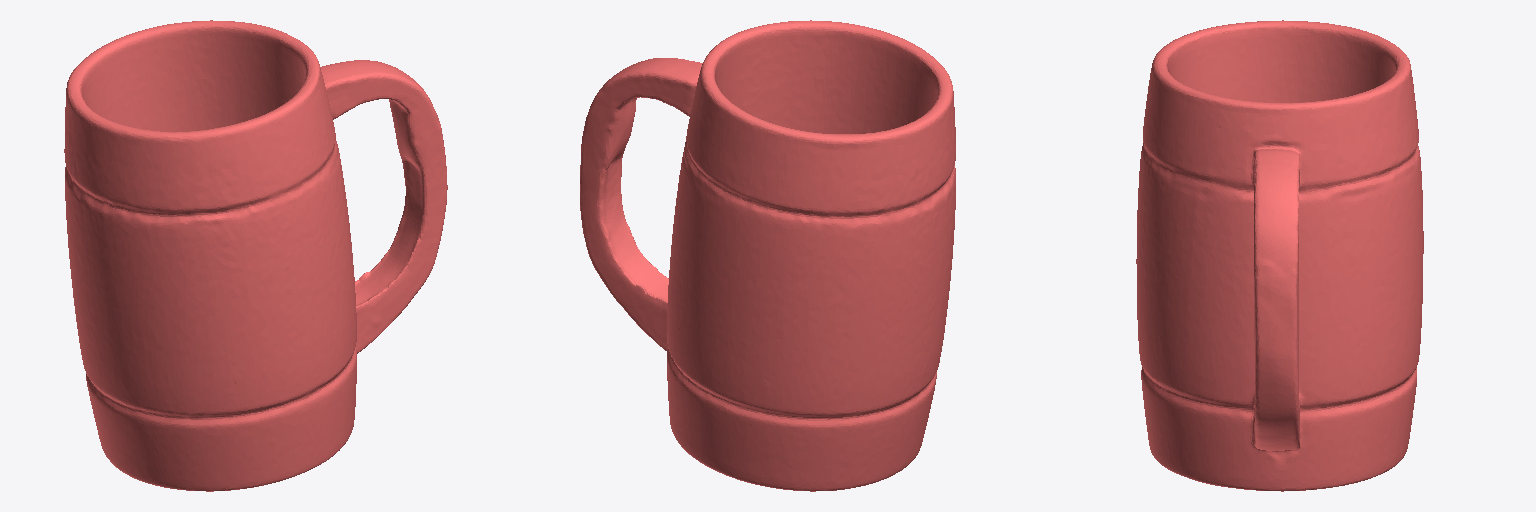
The robot description file, URDF, robot "model.urdf":
<robot name="model.urdf">
    <link name="baseLink">
        <contact>
            <lateral_friction value="0.4"/>
            <rolling_friction value="1"/>
            <spinning_friction value="1"/>
            <contact_cfm value="0.0"/>
            <contact_erp value="1.0"/>
        </contact>
        <inertial>
            <origin rpy="0. -0.1 0" xyz="0 0.0 -0.04"/>
            <mass value="1"/>
            <inertia ixx="1e-3" ixy="0" ixz="0" iyy="1e-3" iyz="0" izz="1e-3"/>
        </inertial>
        <visual>
            <geometry>
                <mesh filename="nontextured.stl" scale="1 1 1"/>
            </geometry>
            <material name="black">
                <color rgba="1.0 0.5 0.5 1"/>
            </material>
        </visual>
        <collision>
            <geometry>
                <mesh filename="nontextured.stl" scale="1 1 1"/>
            </geometry>
        </collision>
    </link>
</robot>

--- Facts derived from the render (not from the file) ---
The picture shows the robot from 3 angles, left to right: view 1: azimuth 30°, elevation 25°; view 2: azimuth 150°, elevation 25°; view 3: azimuth 270°, elevation 25°; orthographic projection.
Robot: model.urdf — 1 links, 0 joints (none); root link baseLink; default pose: all joints at 0.
Links seen in each view (by area): view 1: baseLink; view 2: baseLink; view 3: baseLink.
Link boxes in pixels (x1,y1,x2,y2): baseLink: (64,20,447,491); baseLink: (580,20,955,491); baseLink: (1136,20,1423,491).
Size in the robot's own frame: 0.1426 by 0.098 by 0.1477 metres.
Meshes: 1 distinct files referenced, 1 mesh visuals loaded (1 binary STL).